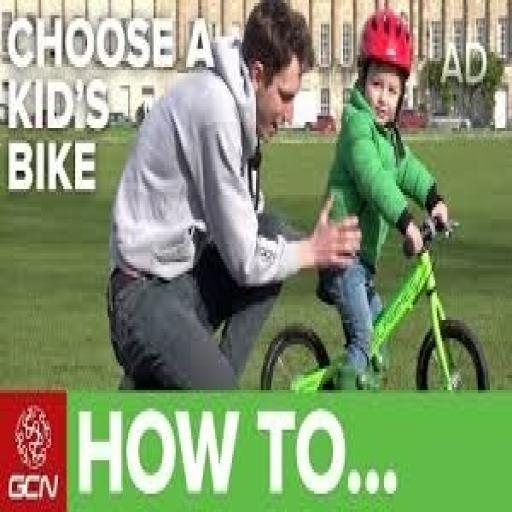cycling: (106, 0, 363, 393), (316, 6, 452, 393)
